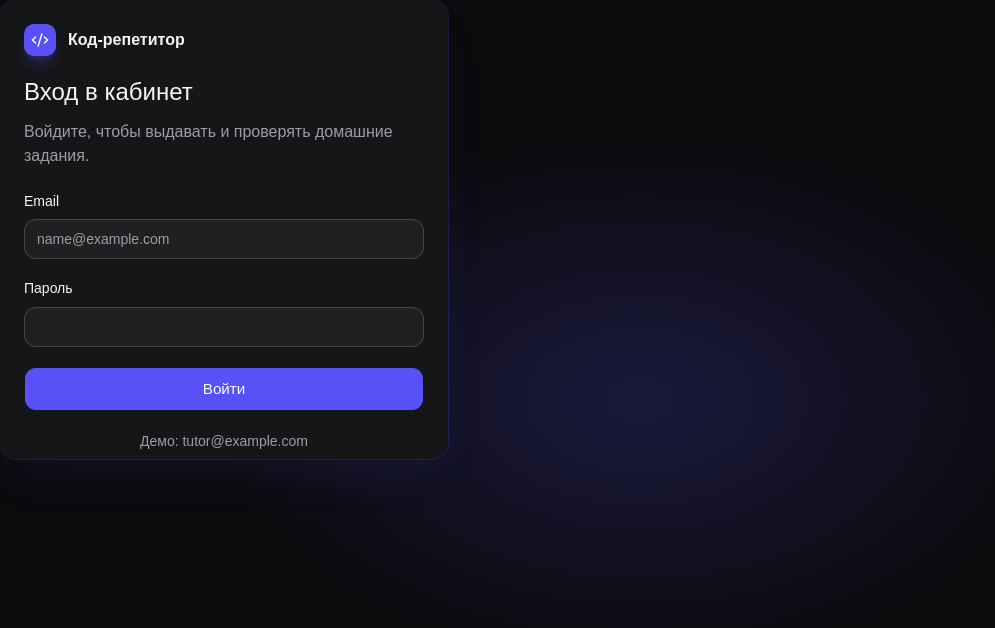
Test: LoginForm › неверный пароль (401): сообщение на русском, введённые данные остаются
Type "tutor@example.com" into the field labelled "Email". click: (224, 239)
box: [24,219,424,259]
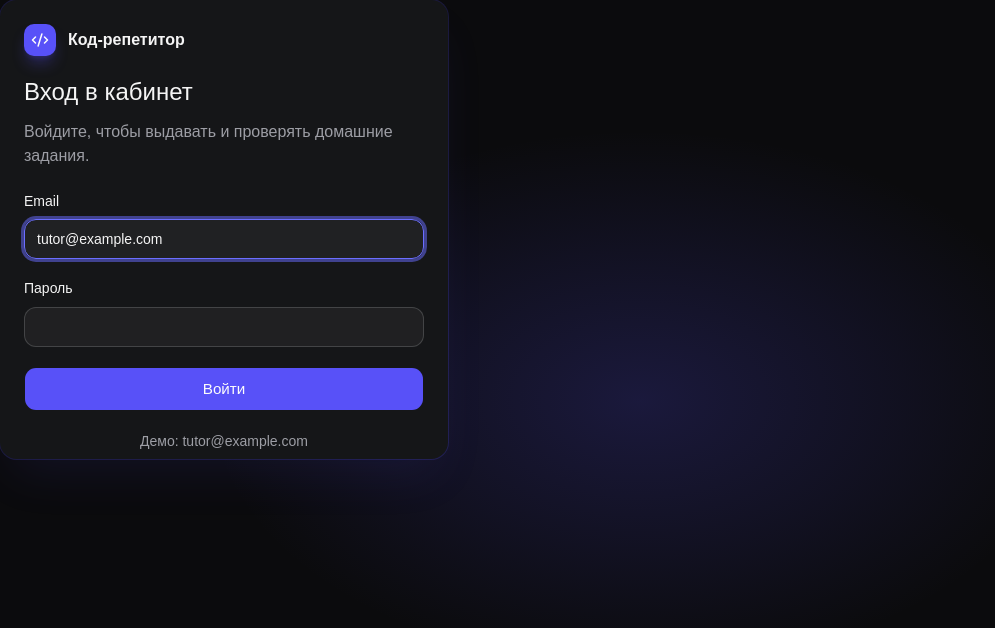
Type "wrong" into the password field labelled "Пароль". click: (224, 326)
box: [24,306,424,346]
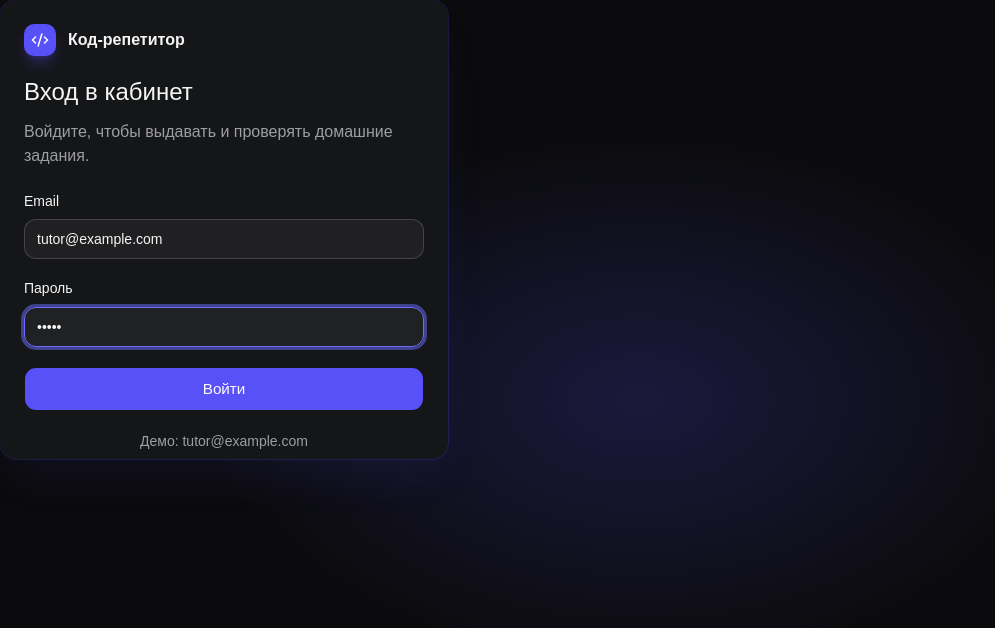
Click the button "Войти". click: click(224, 388)
box: [24,366,424,410]
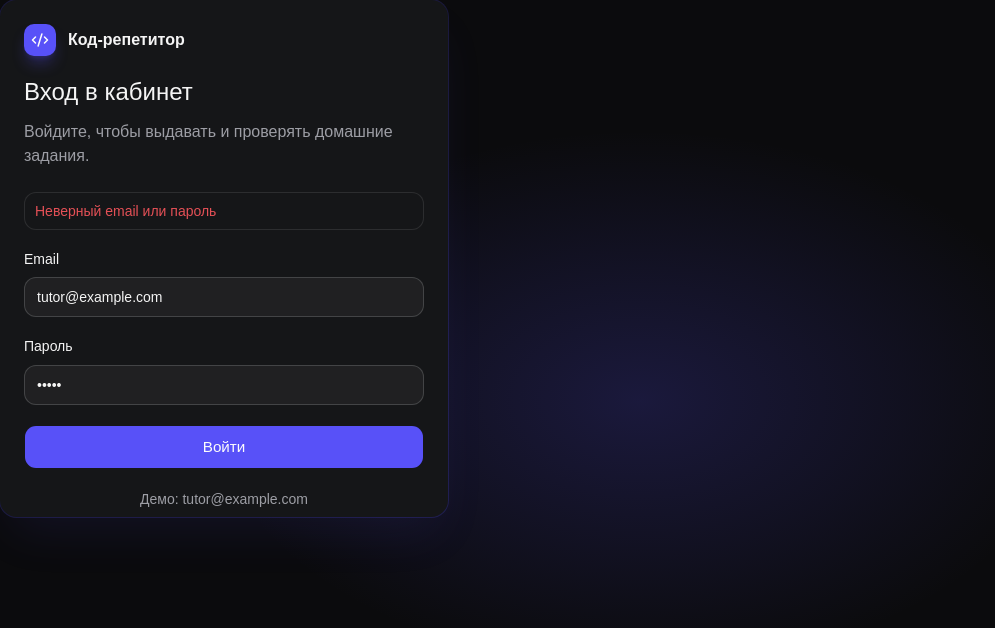
Check: the button "Войти" is enabled, box [24,424,424,468]
Check: the message reads "Неверный email или пароль", box [35,203,216,219]
